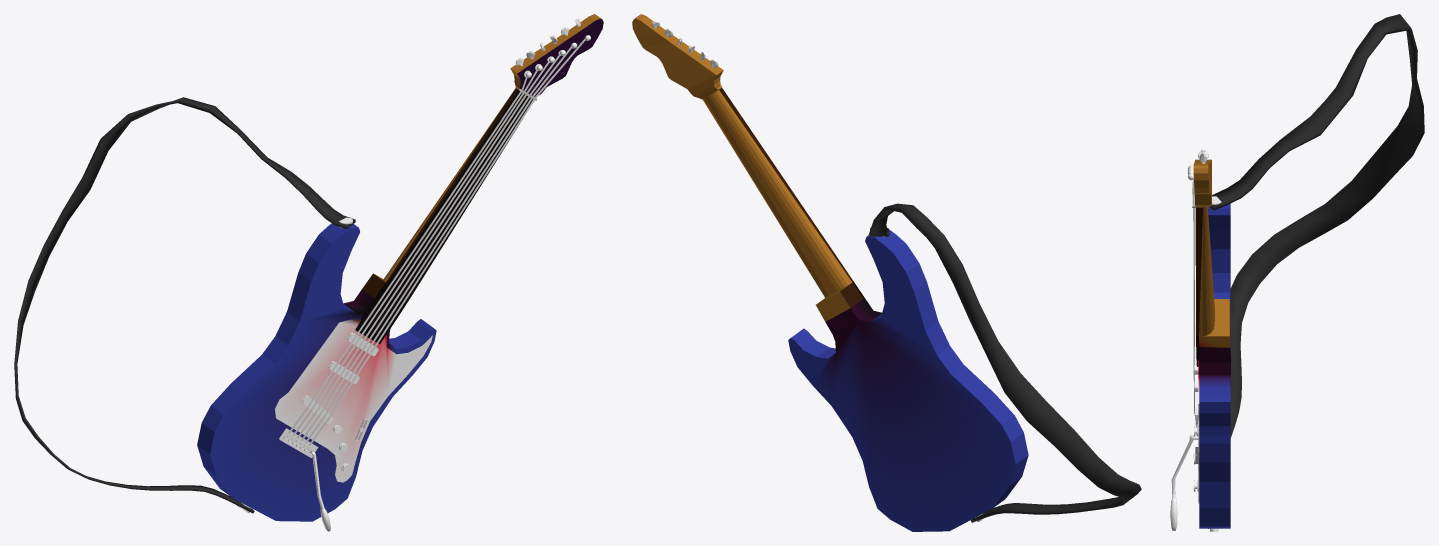
The model's file is guitarra_hanazono.fbx.
The picture shows the model from 3 angles, left to right: view 1: azimuth 30°, elevation 25°; view 2: azimuth 150°, elevation 25°; view 3: azimuth 270°, elevation 25°; orthographic projection. The views are drawn at different scales.
Parts seen in each view (by area): view 1: Guitarra, GuitarraMetal, Correa, Cuerda6, Cuerda5, Cuerda4, Cuerda3, Cuerda2, Cuerda1; view 2: Guitarra, Correa; view 3: Correa, Guitarra, Vibrato, Cuerda6.
Part boxes in pixels (bbox=[...]): Guitarra: bbox=[197, 14, 603, 521]; GuitarraMetal: bbox=[274, 319, 432, 482]; Correa: bbox=[14, 97, 355, 513]; Cuerda6: bbox=[307, 38, 585, 448]; Cuerda5: bbox=[303, 46, 571, 446]; Cuerda4: bbox=[299, 53, 560, 444]; Cuerda3: bbox=[295, 61, 549, 441]; Cuerda2: bbox=[291, 69, 537, 439]; Cuerda1: bbox=[286, 76, 527, 437]; Guitarra: bbox=[632, 14, 1028, 531]; Correa: bbox=[868, 203, 1141, 522]; Correa: bbox=[1209, 14, 1424, 437]; Guitarra: bbox=[1192, 159, 1230, 528]; Vibrato: bbox=[1170, 435, 1198, 530]; Cuerda6: bbox=[1193, 179, 1197, 427].
Size of the model in its own units: 1061 by 832 by 361.
